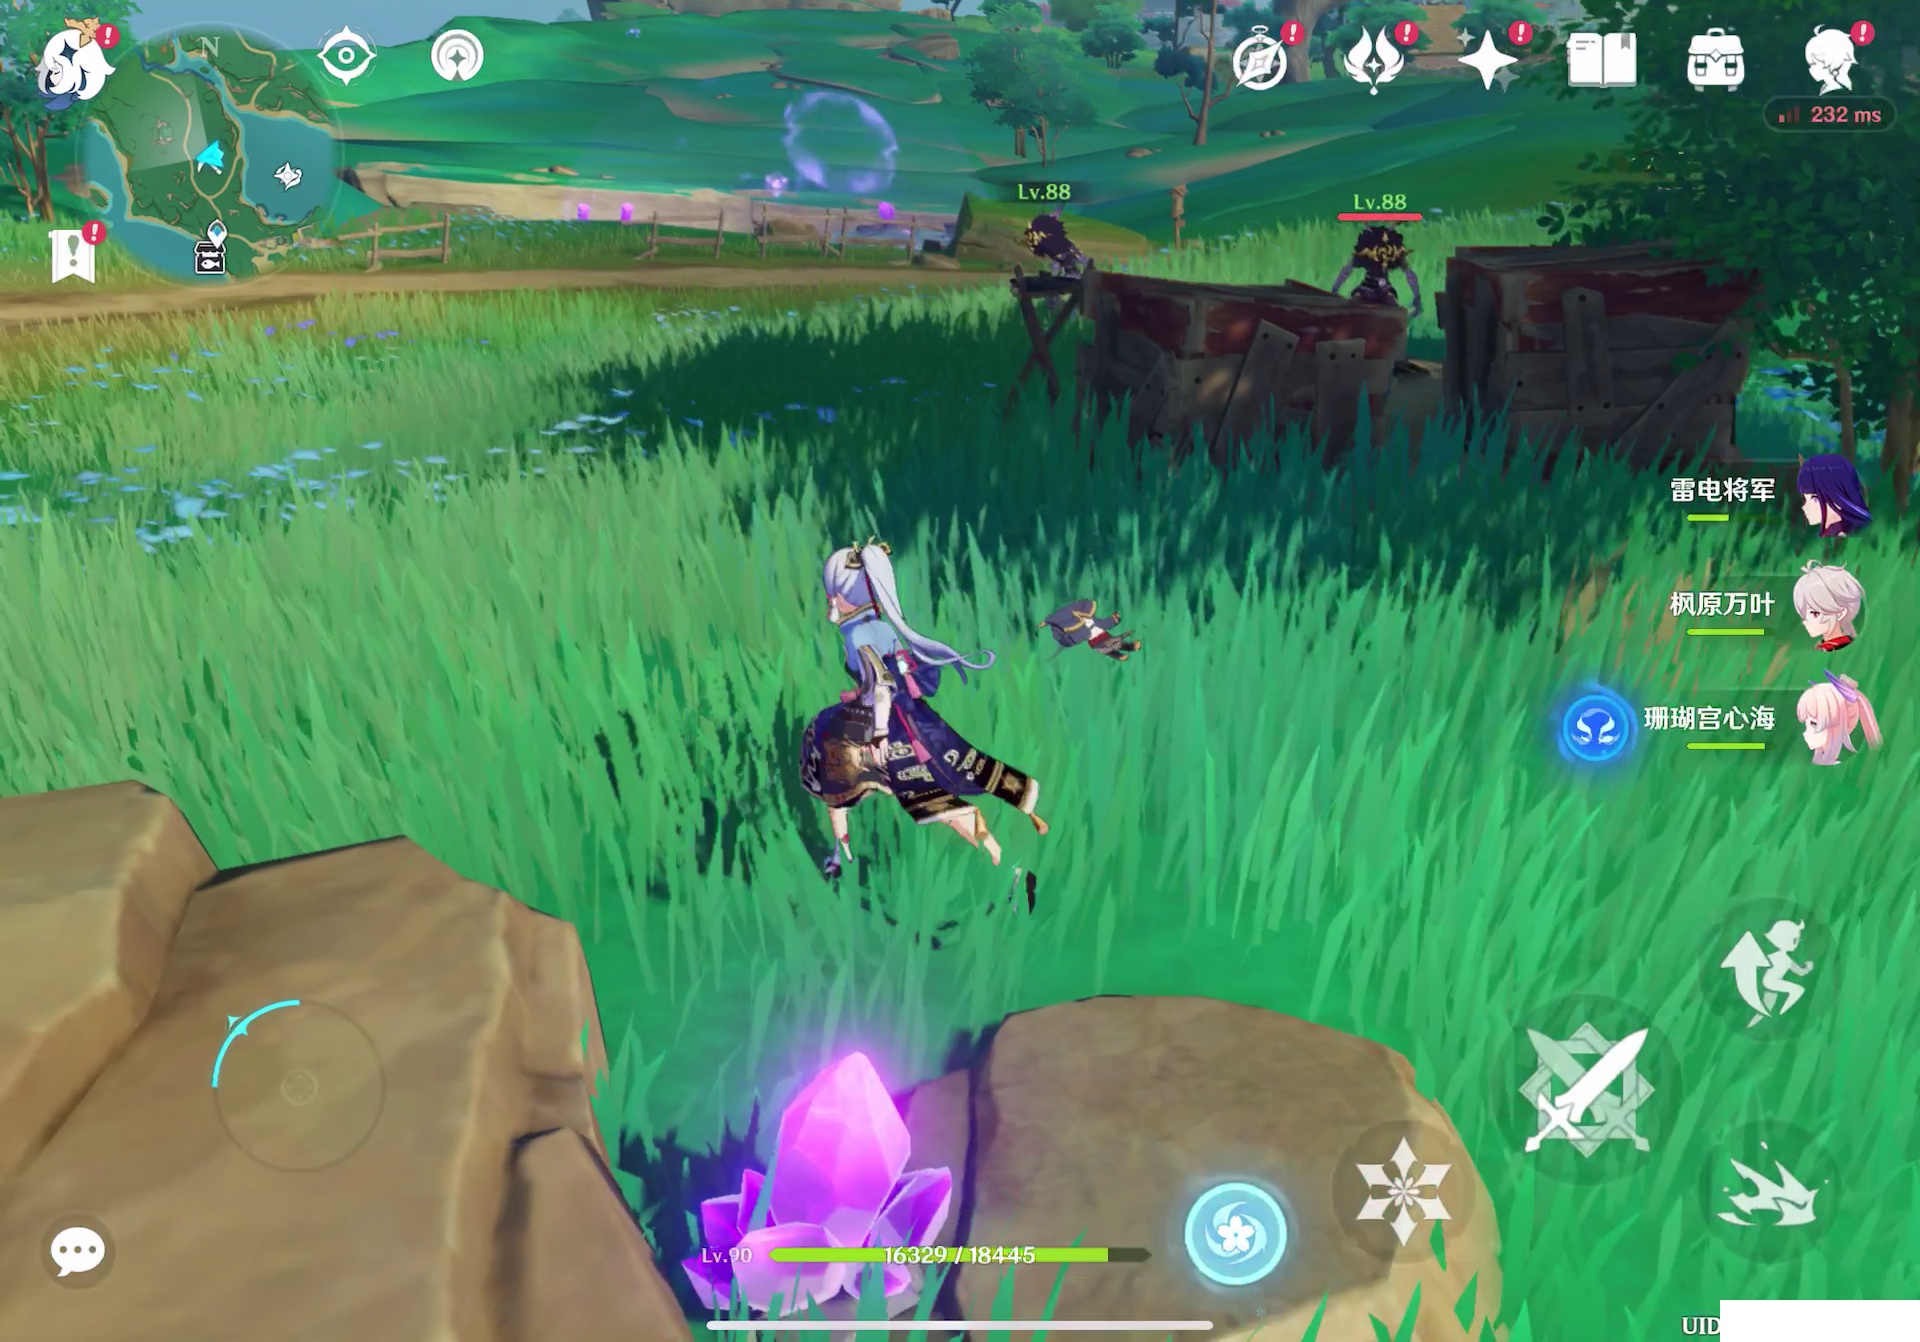丘丘人: (1333, 222, 1440, 300), (1018, 212, 1106, 267)
神里绫龟: (763, 527, 1029, 907)
紫矿石: (690, 1056, 983, 1292)
